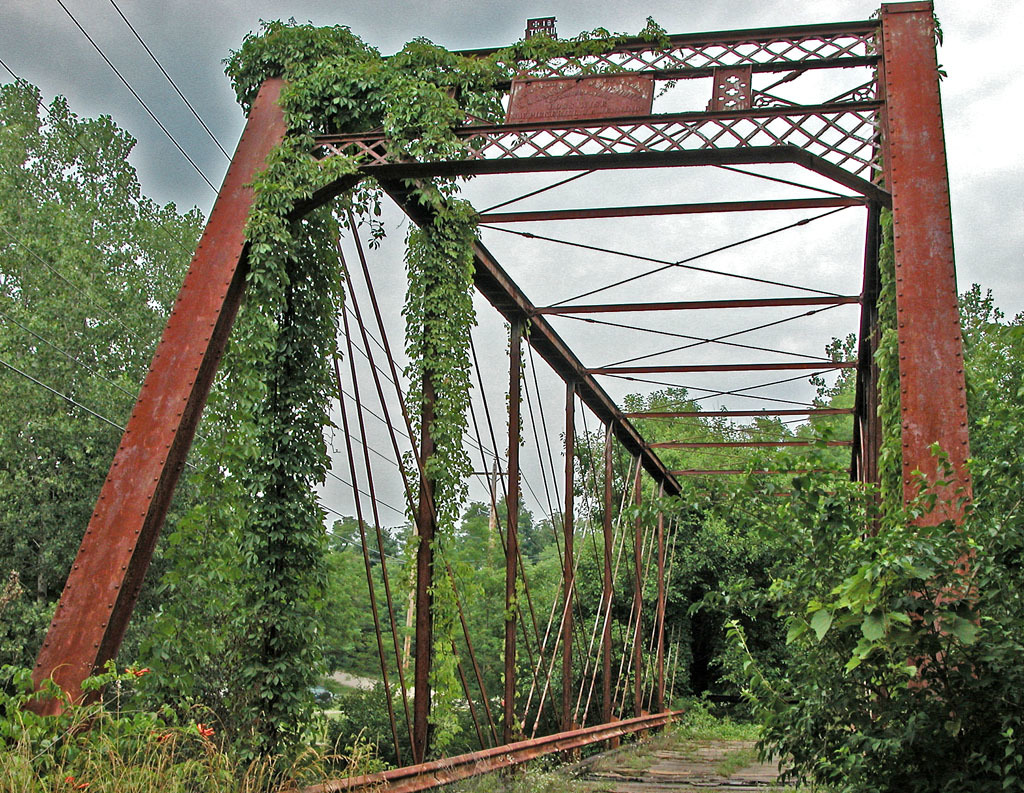Tree: (0, 16, 1024, 793)
